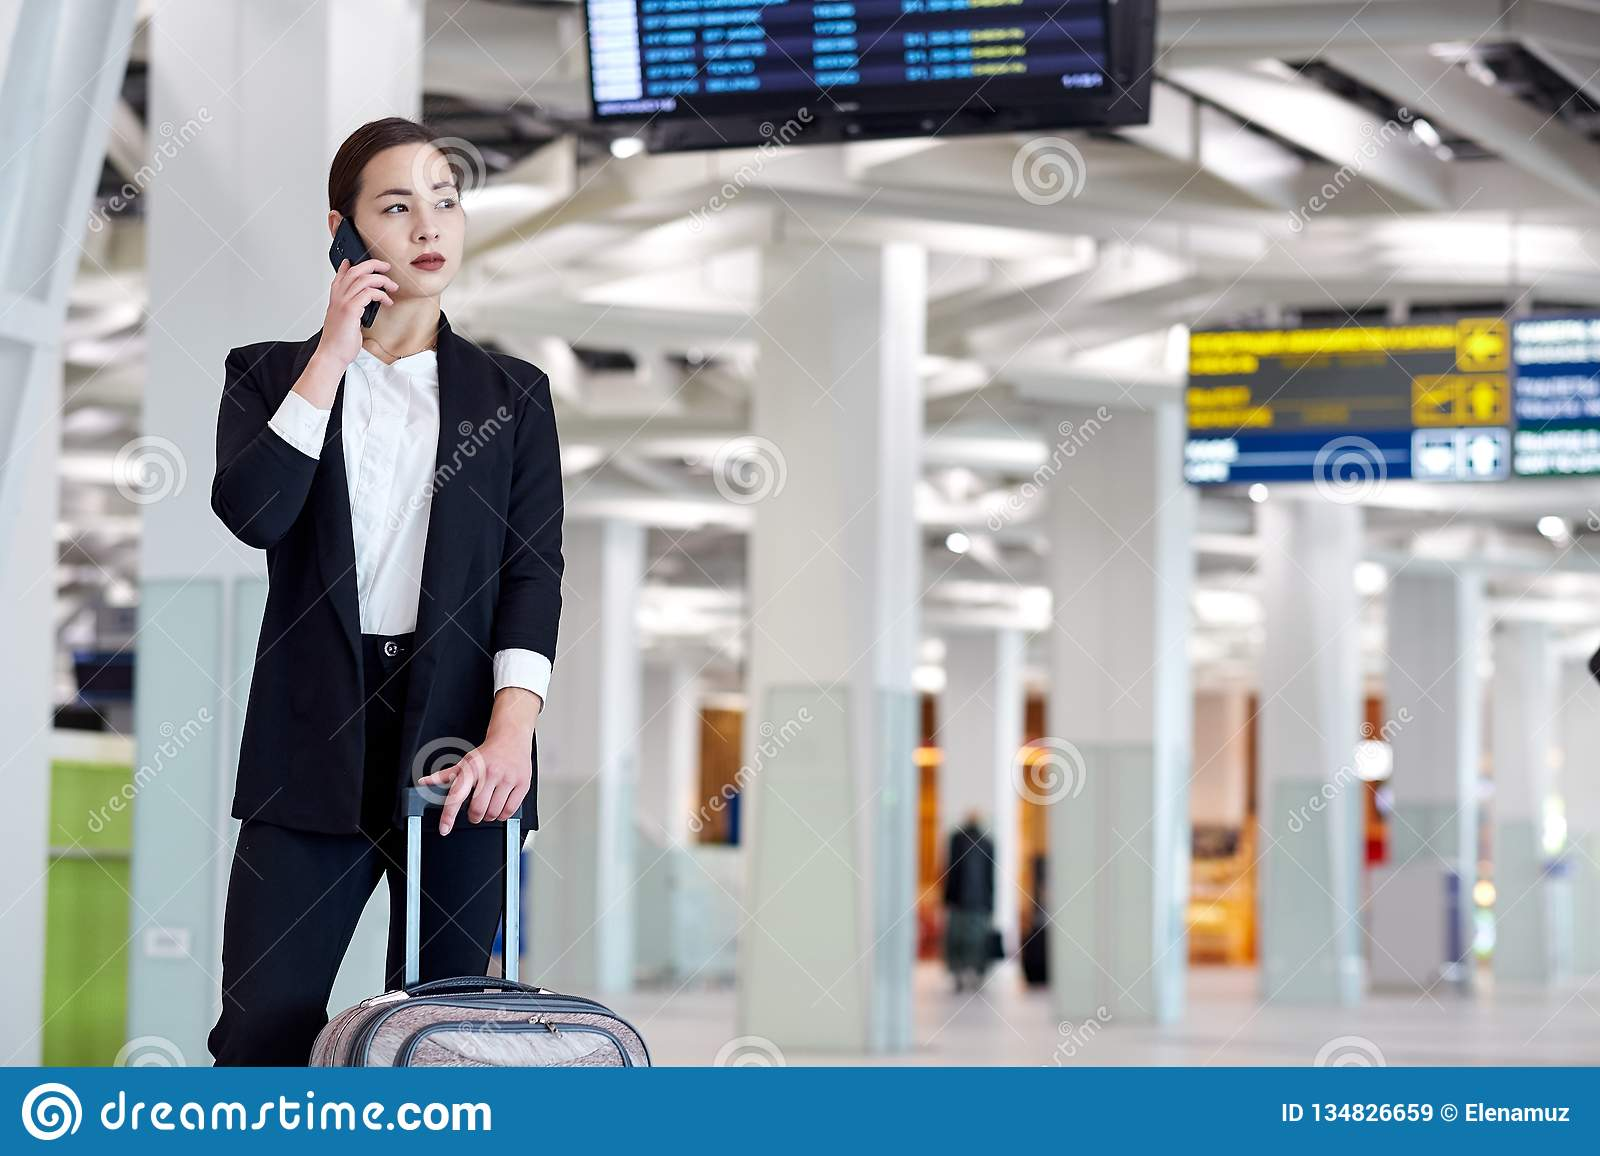phone: (328, 219, 383, 335)
talk: (322, 176, 466, 371)
